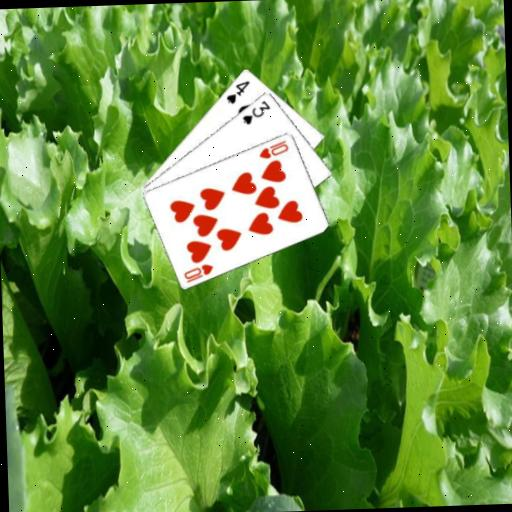10H: (255, 136, 290, 160), (180, 260, 215, 284)
3S: (239, 96, 272, 126)
4S: (222, 77, 251, 105)
